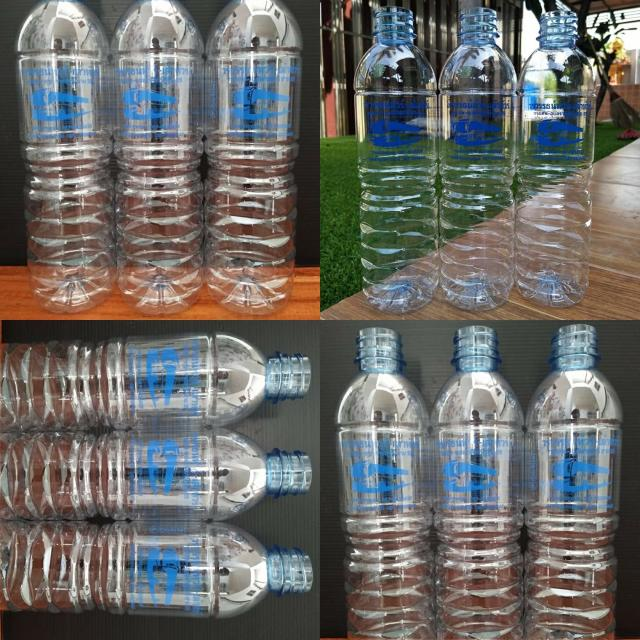plastik: (16, 0, 116, 312), (335, 328, 434, 640), (525, 324, 622, 640), (205, 0, 302, 314), (0, 521, 312, 618), (0, 334, 309, 431), (111, 0, 204, 314), (431, 326, 524, 639), (0, 429, 311, 521), (354, 6, 439, 314), (515, 10, 595, 308), (439, 8, 516, 311)
